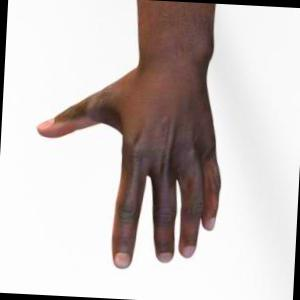paper: (37, 0, 220, 267)
